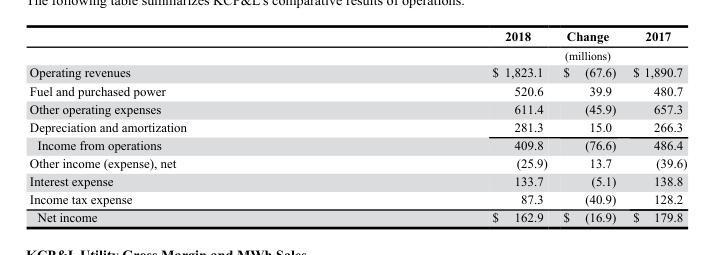table: (28, 28, 686, 223)
table column: (28, 28, 338, 223), (338, 28, 554, 223), (554, 28, 623, 223), (623, 28, 686, 223)
table column header: (28, 28, 686, 62)
table row: (28, 62, 686, 81), (28, 81, 686, 99), (28, 99, 686, 117), (28, 117, 686, 135), (28, 135, 686, 153), (28, 153, 686, 171), (28, 171, 686, 189), (28, 189, 686, 207), (28, 28, 686, 45), (28, 45, 686, 62), (28, 207, 686, 223)
table spanning cell: (338, 45, 686, 62)
